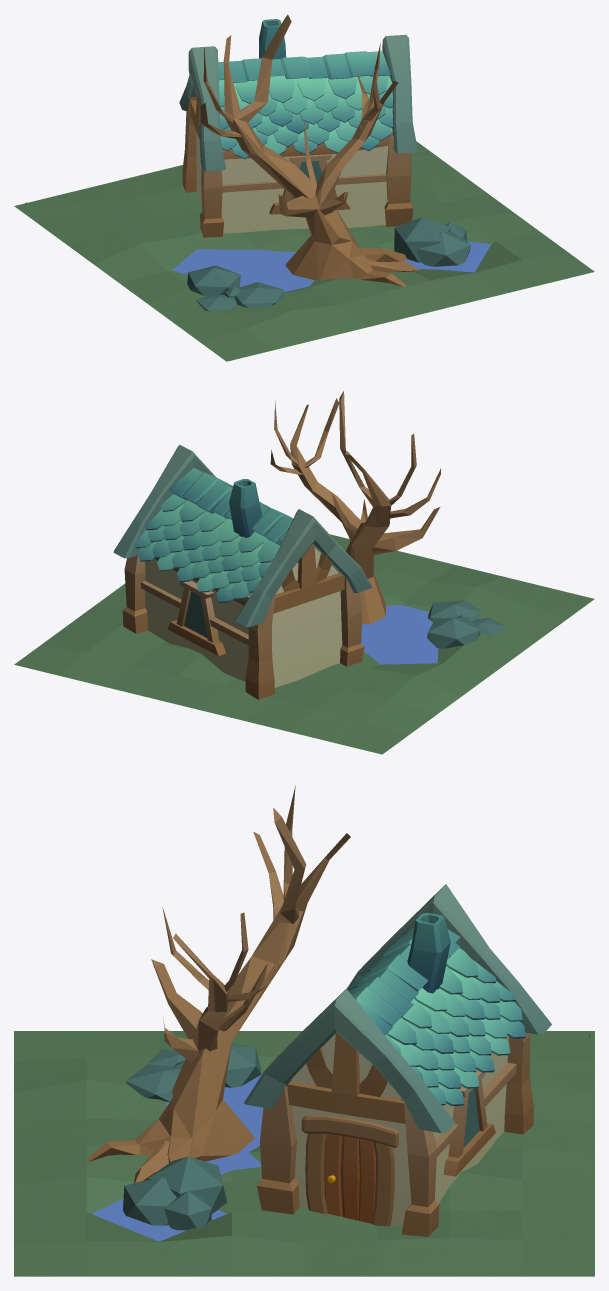
File: House_Rainy.glb
3 views of the same model, one above another, from view 1: azimuth 30°, elevation 25°; view 2: azimuth 150°, elevation 25°; view 3: azimuth 270°, elevation 25° (orthographic). The views are drawn at different scales.
Parts seen in each view (by area): view 1: Plane.002, Arbol1.069, Circle.007, Cube.349, Plane, Cube.345, Cube.347, Icosphere.022, Icosphere.023, Cube.348, Cube.335, Cube.333 (+4 smaller); view 2: Plane.002, Circle.008, Cube.349, Arbol1.069, Cube.347, Plane, Cube.334, Cube.345, Icosphere.022, Cube.348, Cube.346, Cube.342 (+2 smaller); view 3: Plane.002, Arbol1.069, Circle.008, Cube.348, Cube.349, Cube.344, Cube.339, Cube.347, Icosphere.023, Cube.345, Cube.335, Cube.334 (+9 smaller).
Part boxes in pixels (x1,y1,x2,y2): Plane.002: (14,141,594,361); Arbol1.069: (200,14,419,286); Circle.007: (219,75,393,159); Cube.349: (196,129,392,233); Plane: (171,241,490,291); Cube.345: (218,51,390,82); Cube.347: (179,46,225,171); Icosphere.022: (187,265,284,311); Icosphere.023: (394,217,470,266); Cube.348: (382,34,417,153); Cube.335: (384,136,413,226); Cube.333: (222,154,386,214); Plane.002: (14,534,594,754); Circle.008: (134,494,364,666); Cube.349: (145,548,342,687); Arbol1.069: (270,391,440,624); Cube.347: (235,509,372,626); Plane: (361,604,438,664); Cube.334: (141,581,248,655); Cube.345: (169,468,293,545); Icosphere.022: (427,600,505,648); Cube.348: (113,444,216,558); Cube.346: (273,544,344,613); Cube.342: (245,594,275,699); Plane.002: (14,1031,594,1276); Arbol1.069: (86,785,350,1182); Circle.008: (385,948,525,1105); Cube.348: (244,988,455,1133); Cube.349: (291,1034,508,1226); Cube.344: (287,1033,405,1123); Cube.339: (301,1115,398,1226); Cube.347: (347,884,551,1034); Icosphere.023: (123,1156,226,1225); Cube.345: (349,928,460,1035); Cube.335: (257,1085,299,1214); Cube.334: (435,1063,516,1176).
Bounding box in the file's own units: 10 × 6.67 × 10.
Materials: 4 (4 with a texture image).
